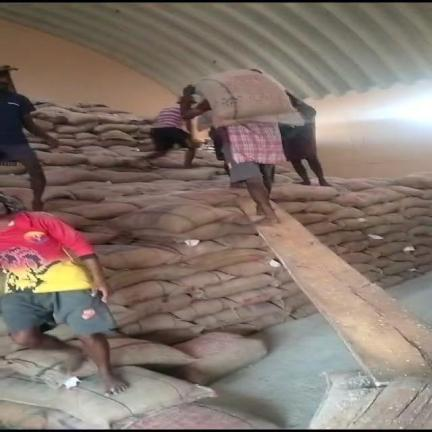Zone-Counting: (180, 69, 303, 221)
